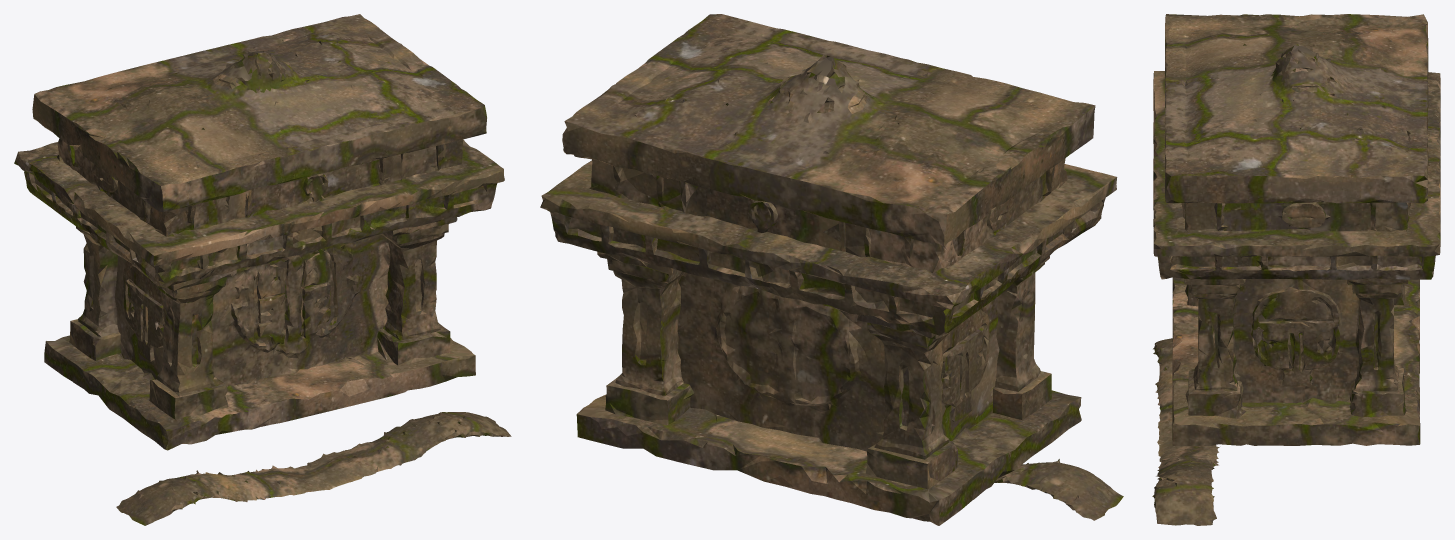
Rendered from temple_altar_ruins.glb.
The picture shows the model from 3 angles, left to right: view 1: azimuth 30°, elevation 25°; view 2: azimuth 150°, elevation 25°; view 3: azimuth 270°, elevation 25°; orthographic projection. The views are drawn at different scales.
Visible parts, largest first — view 1: temple_altar_ruins; view 2: temple_altar_ruins; view 3: temple_altar_ruins.
Boxes of the visible parts, box(x1,y1,x2,y2) form: temple_altar_ruins: box(14, 14, 511, 525); temple_altar_ruins: box(540, 14, 1123, 525); temple_altar_ruins: box(1152, 14, 1440, 525).
Size of the model in its own units: 1.9 by 1.89 by 1.24.
Materials: 1 (1 with a texture image).
